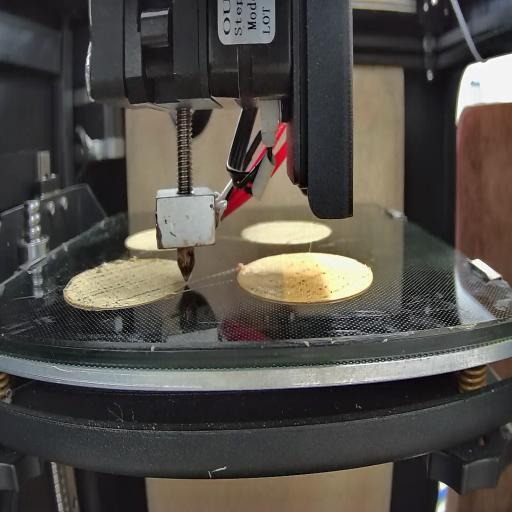under_extrusion: (67, 261, 182, 299), (290, 258, 353, 300), (249, 269, 285, 302)
